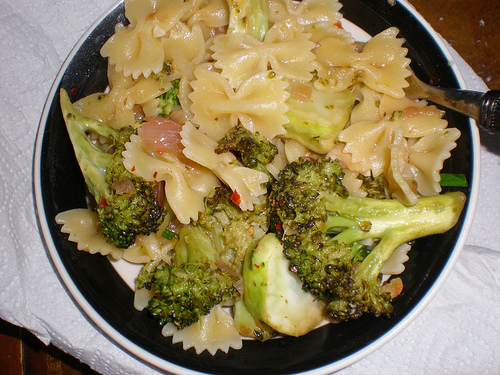broccoli: (261, 154, 475, 324), (130, 186, 269, 330), (60, 86, 160, 248), (211, 123, 279, 169)
